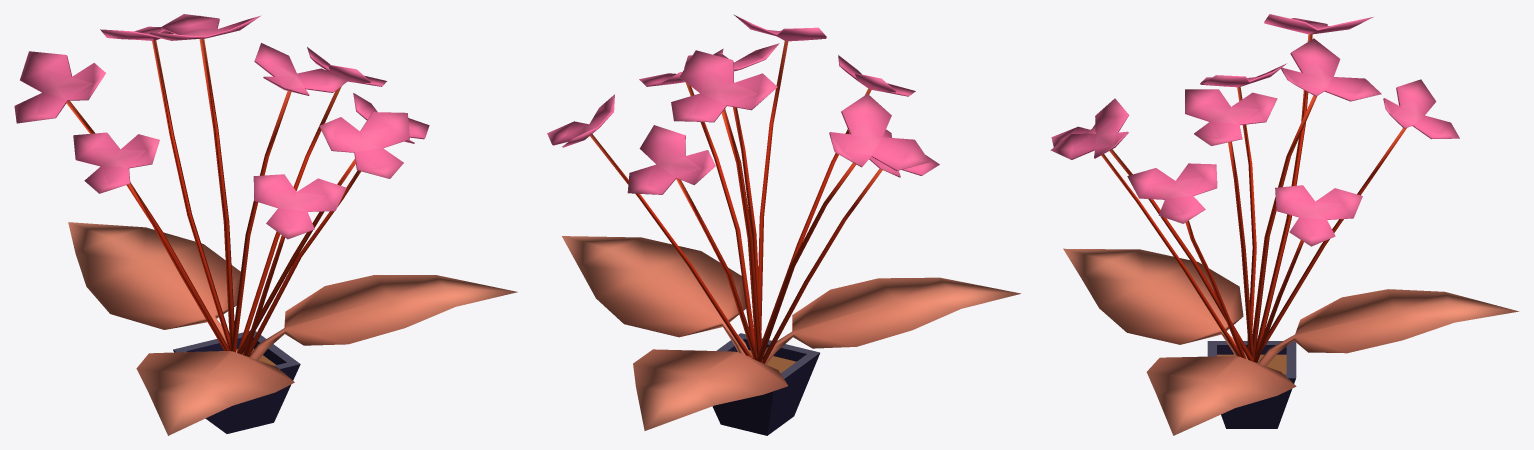
Rendered from pfp16.fbx.
The picture shows the model from 3 angles, left to right: view 1: azimuth 30°, elevation 25°; view 2: azimuth 150°, elevation 25°; view 3: azimuth 270°, elevation 25°; orthographic projection. The views are drawn at different scales.
Visible parts, largest first — view 1: pfp16; view 2: pfp16; view 3: pfp16.
Part boxes in pixels (<box>): pfp16: <box>14,14,517,435</box>; pfp16: <box>547,14,1020,435</box>; pfp16: <box>1050,14,1519,435</box>.
Bounding box in the file's own units: 109 × 89.89 × 107.
